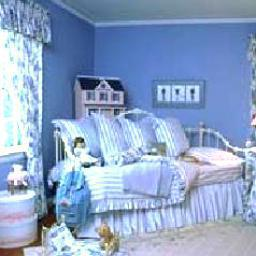Otro Obstaculo: (43, 226, 133, 256)
